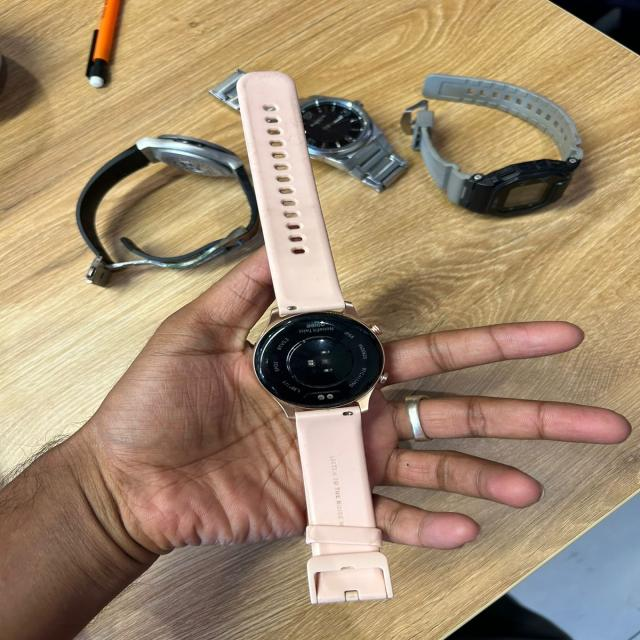watch: (401, 72, 585, 218)
